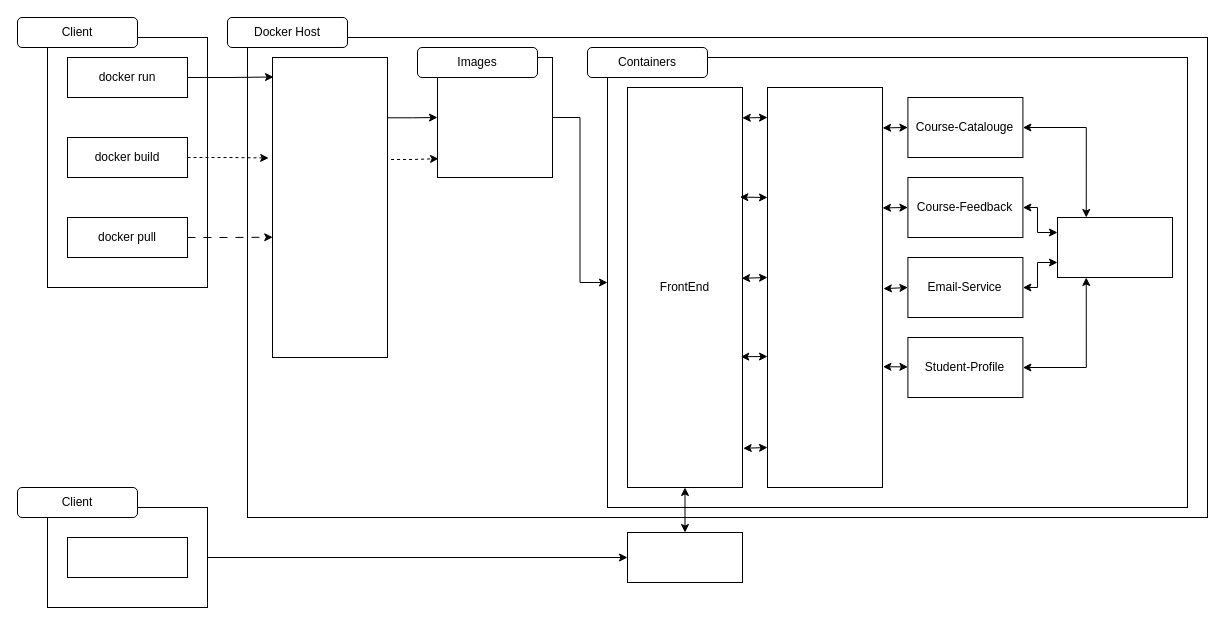
The diagram is 1225 pixels wide and 625 high, and some of its shapes have lost their labels. The shapes that lost their labels are listed below. From the top down, each one's box as (x1, y1, x2, y2) in pixels, then its label:
(436, 56, 552, 178): Python Postgre SQL
(272, 56, 388, 358): docker daemon
(1056, 216, 1172, 278): Student-Db
(766, 86, 882, 488): API
(66, 536, 188, 578): Device
(626, 532, 742, 582): Website
